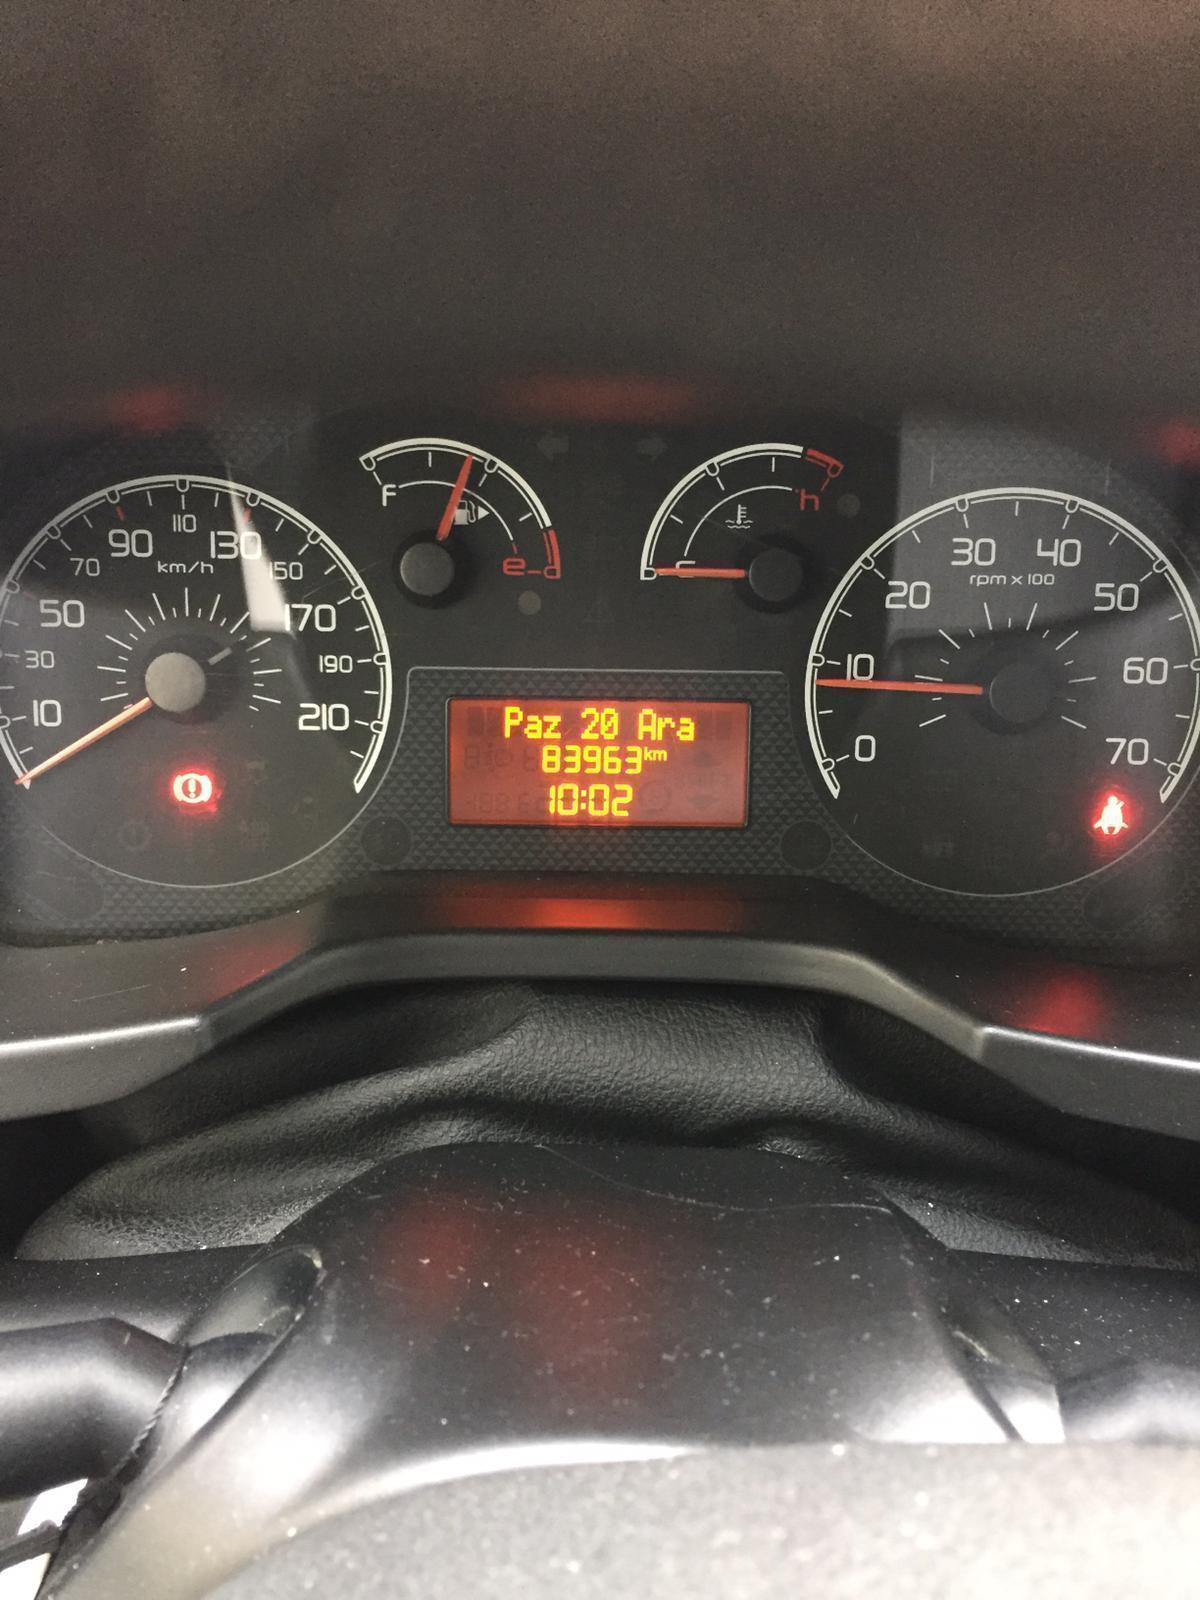0: (587, 781, 609, 820), (557, 781, 579, 816), (601, 706, 619, 740)
1: (546, 780, 557, 814)
2: (611, 781, 635, 818), (581, 706, 600, 740)
3: (563, 742, 581, 774), (626, 745, 642, 777)
6: (603, 745, 621, 775)
8: (539, 742, 561, 774)
9: (584, 743, 601, 774)
X: (637, 706, 655, 741), (503, 706, 521, 737), (542, 713, 563, 737), (676, 716, 695, 742), (524, 712, 541, 740), (655, 716, 673, 740), (653, 748, 667, 762), (580, 786, 586, 815), (642, 745, 652, 761)
odometer: (442, 690, 754, 834)
